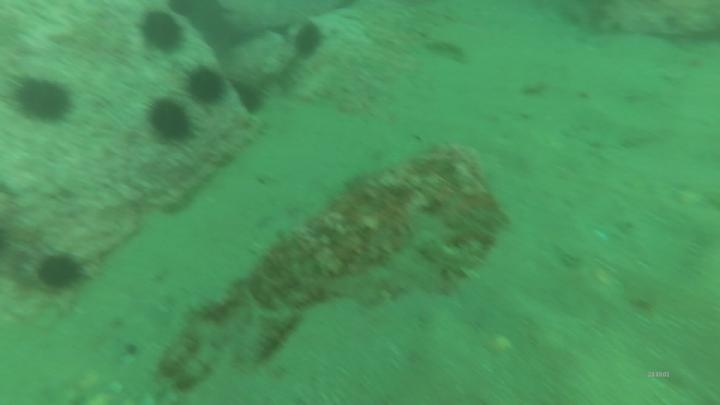echinus: (140, 92, 202, 151), (11, 74, 78, 127), (33, 252, 97, 295), (136, 10, 191, 54), (181, 64, 231, 106), (292, 20, 326, 63)
holothurian: (412, 233, 487, 277), (423, 34, 471, 67)
